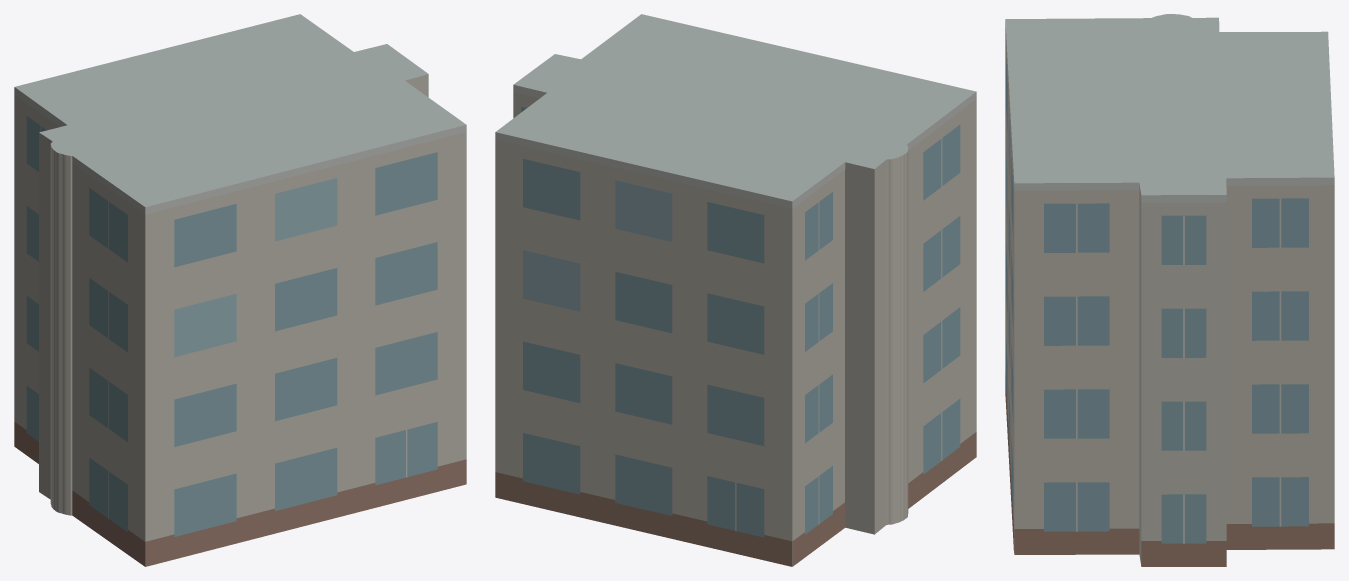
Rendered from survey-upis-32520487.glb.
3 views of the same model, side by side, from view 1: azimuth 30°, elevation 25°; view 2: azimuth 150°, elevation 25°; view 3: azimuth 270°, elevation 25° (orthographic). The views are drawn at different scales.
Parts seen in each view (by area): view 1: survey-upis-32520487.tmp; view 2: survey-upis-32520487.tmp; view 3: survey-upis-32520487.tmp.
Part boxes in pixels (bbox=[...]): survey-upis-32520487.tmp: bbox=[14, 14, 466, 566]; survey-upis-32520487.tmp: bbox=[495, 14, 976, 566]; survey-upis-32520487.tmp: bbox=[1005, 14, 1334, 566].
Bounding box in the file's own units: 12.6 × 12.05 × 9.68.
